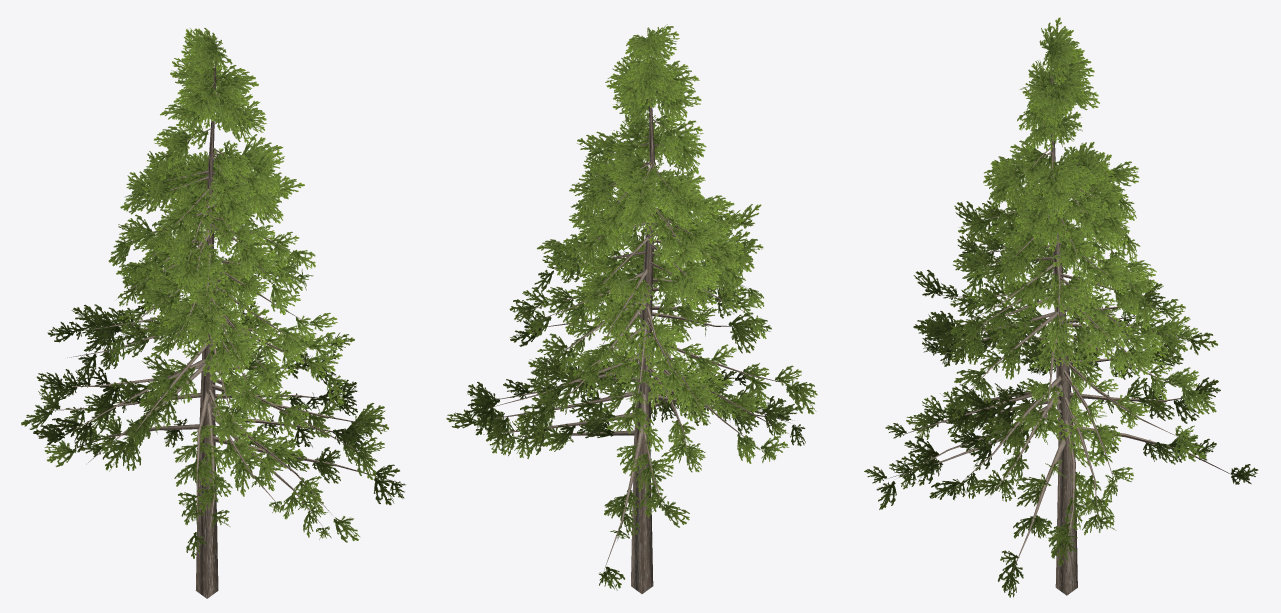
The model's file is pine_medium_a.glb.
The picture shows the model from 3 angles, left to right: view 1: azimuth 30°, elevation 25°; view 2: azimuth 150°, elevation 25°; view 3: azimuth 270°, elevation 25°; orthographic projection.
Parts seen in each view (by area): view 1: leaves, trunk; view 2: leaves, trunk; view 3: leaves, trunk.
Part boxes in pixels (left/top/right/bottom): leaves: left=21, top=28, right=405, bottom=558; trunk: left=46, top=39, right=400, bottom=598; leaves: left=446, top=24, right=817, bottom=590; trunk: left=476, top=29, right=794, bottom=593; leaves: left=864, top=17, right=1258, bottom=597; trunk: left=887, top=45, right=1237, bottom=595.
Bounding box in the file's own units: 6.8 × 11 × 7.13.
Materials: 2 (2 with a texture image).
